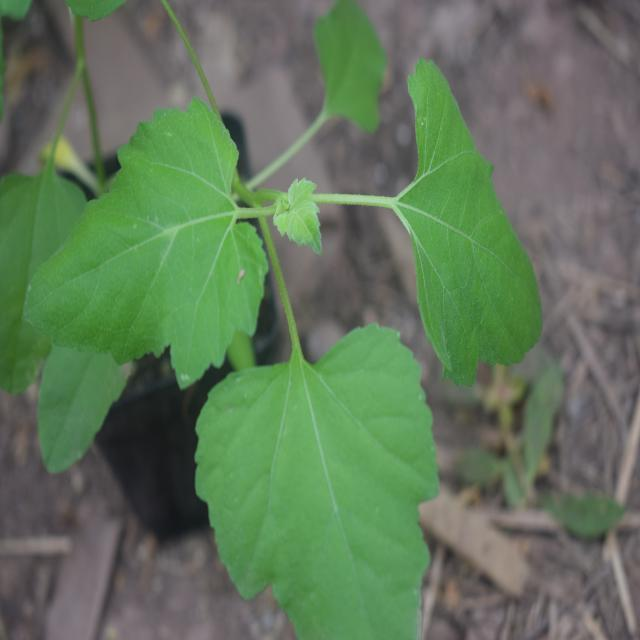cocklebur: (31, 9, 526, 596)
